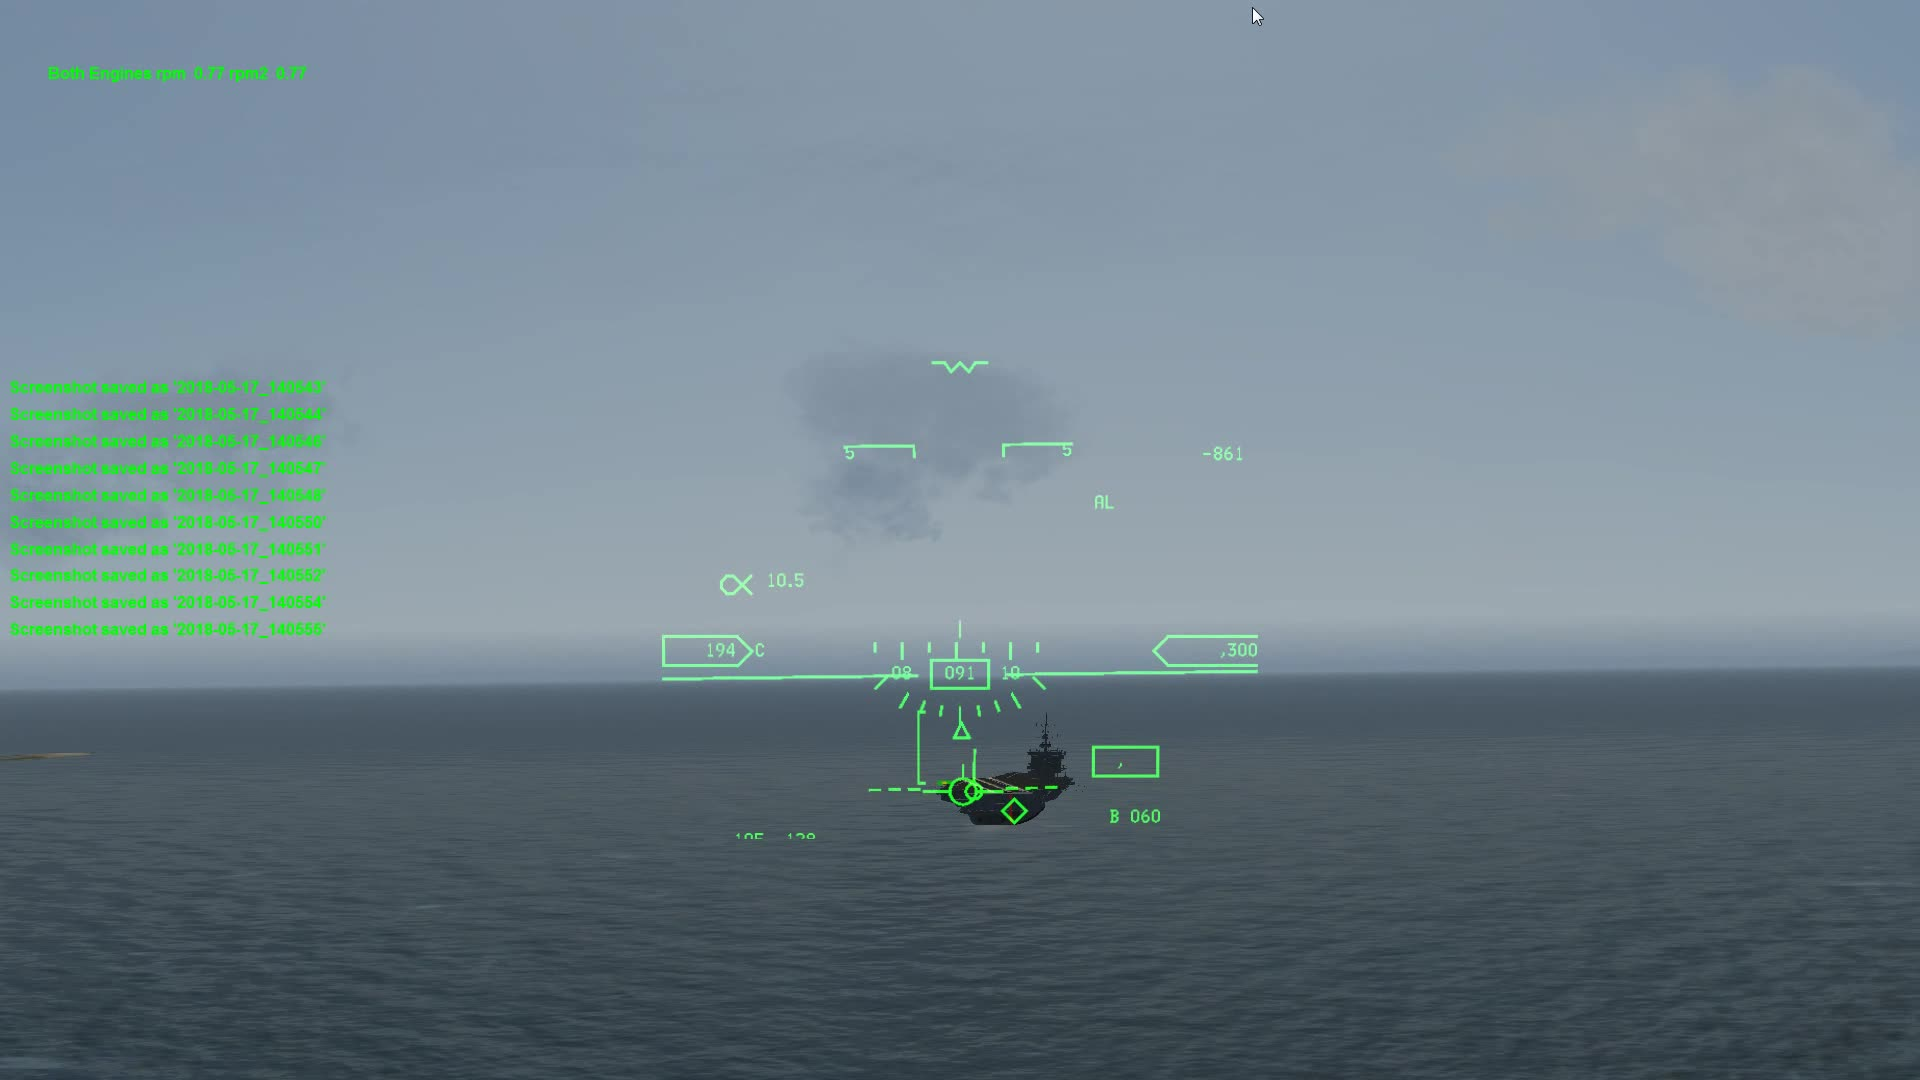speed vector: (922, 764, 1002, 808)
